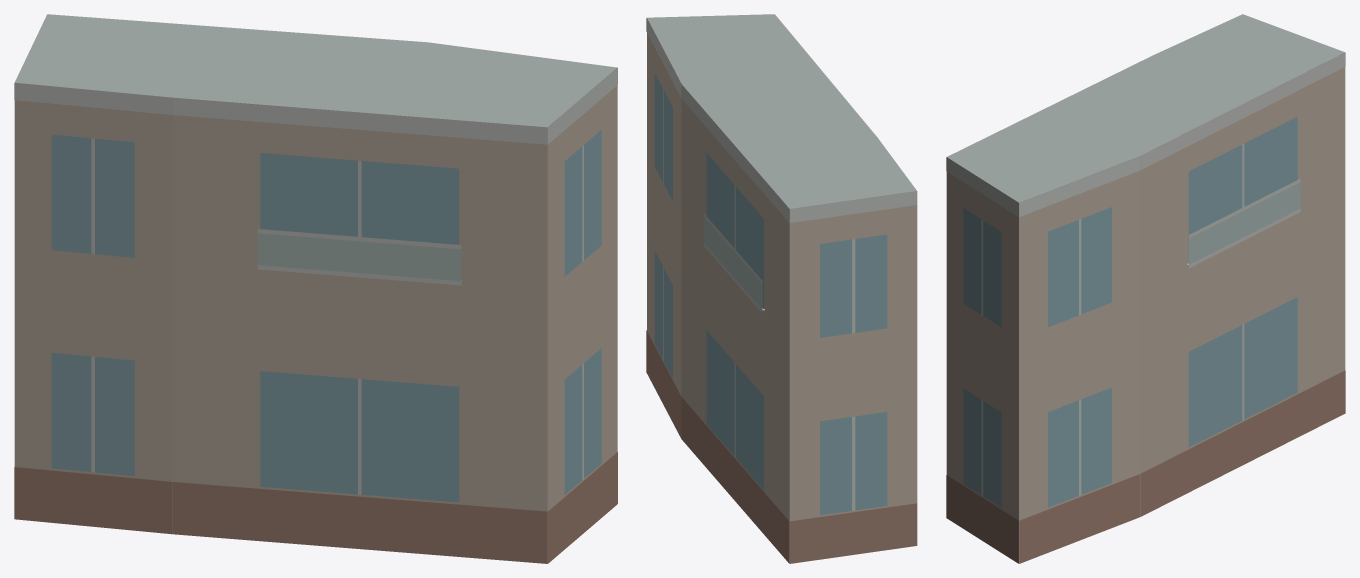
File: survey-upis-32471379.glb
The picture shows the model from 3 angles, left to right: view 1: azimuth 30°, elevation 25°; view 2: azimuth 150°, elevation 25°; view 3: azimuth 270°, elevation 25°; orthographic projection. The views are drawn at different scales.
Parts seen in each view (by area): view 1: survey-upis-32471379.tmp; view 2: survey-upis-32471379.tmp; view 3: survey-upis-32471379.tmp.
Boxes of the visible parts, box(x1,y1,x2,y2) form: survey-upis-32471379.tmp: box(14, 14, 617, 563); survey-upis-32471379.tmp: box(646, 14, 917, 563); survey-upis-32471379.tmp: box(946, 14, 1345, 563).
Size of the model in its own units: 6.85 by 6.1 by 6.12.
